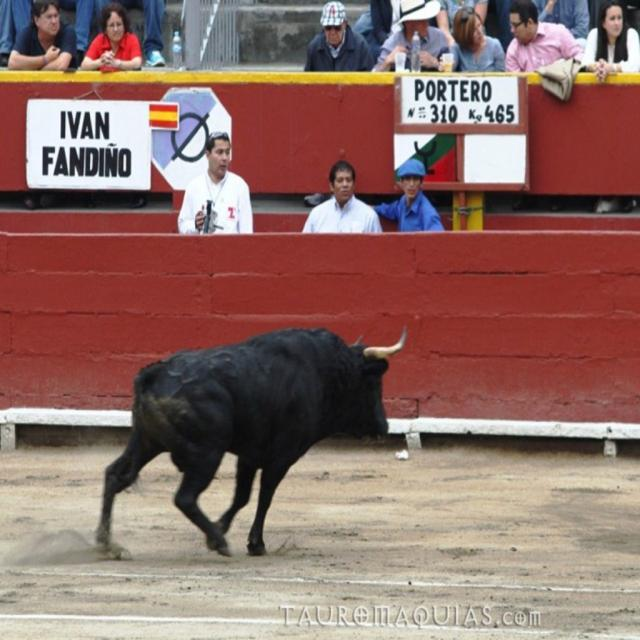Bull: (93, 324, 410, 563)
